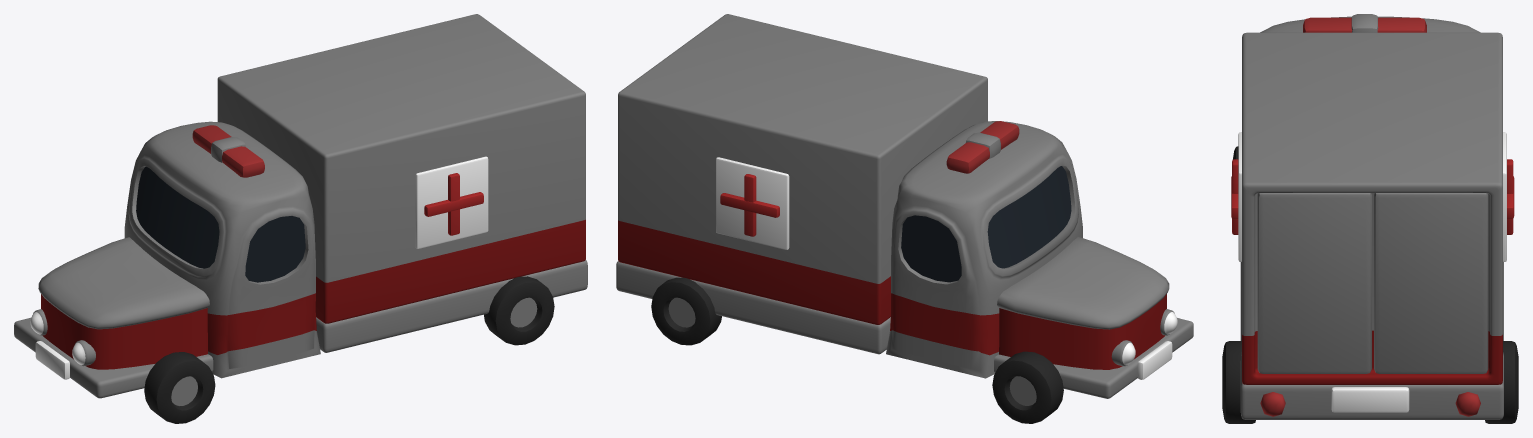
File: SM_ambulance.fbx
3 views of the same model, side by side, from view 1: azimuth 30°, elevation 25°; view 2: azimuth 150°, elevation 25°; view 3: azimuth 270°, elevation 25° (orthographic). The views are drawn at different scales.
Parts seen in each view (by area): view 1: Object32363; view 2: Object32363; view 3: Object32363.
Part boxes in pixels (bbox=[...]): Object32363: bbox=[14, 14, 587, 423]; Object32363: bbox=[616, 14, 1193, 423]; Object32363: bbox=[1222, 14, 1518, 423].
Bounding box in the file's own units: 258 × 115 × 112.
